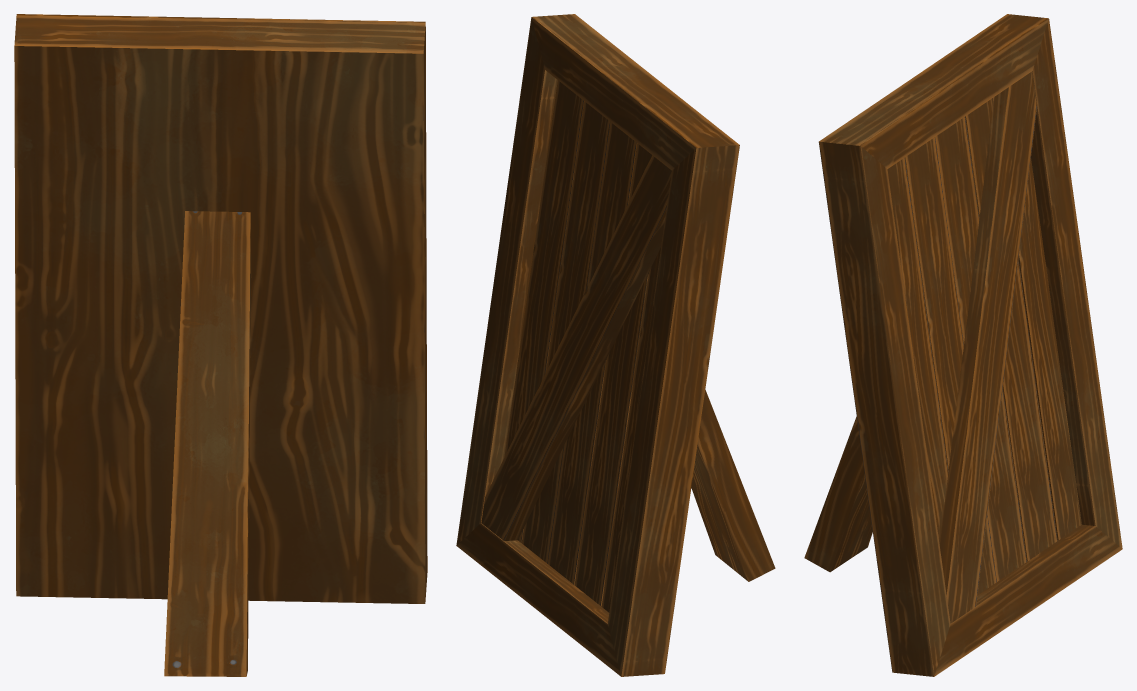
The picture shows the model from 3 angles, left to right: view 1: azimuth 30°, elevation 25°; view 2: azimuth 150°, elevation 25°; view 3: azimuth 270°, elevation 25°; orthographic projection. The views are drawn at different scales.
Visible parts, largest first — view 1: Cube.1848; view 2: Cube.1848; view 3: Cube.1848.
Boxes of the visible parts, left/top/right/bottom form: Cube.1848: left=14, top=14, right=427, bottom=676; Cube.1848: left=456, top=14, right=775, bottom=676; Cube.1848: left=804, top=14, right=1122, bottom=676.
Bounding box in the file's own units: 219 × 340 × 189.
1 material, 1 textured.
